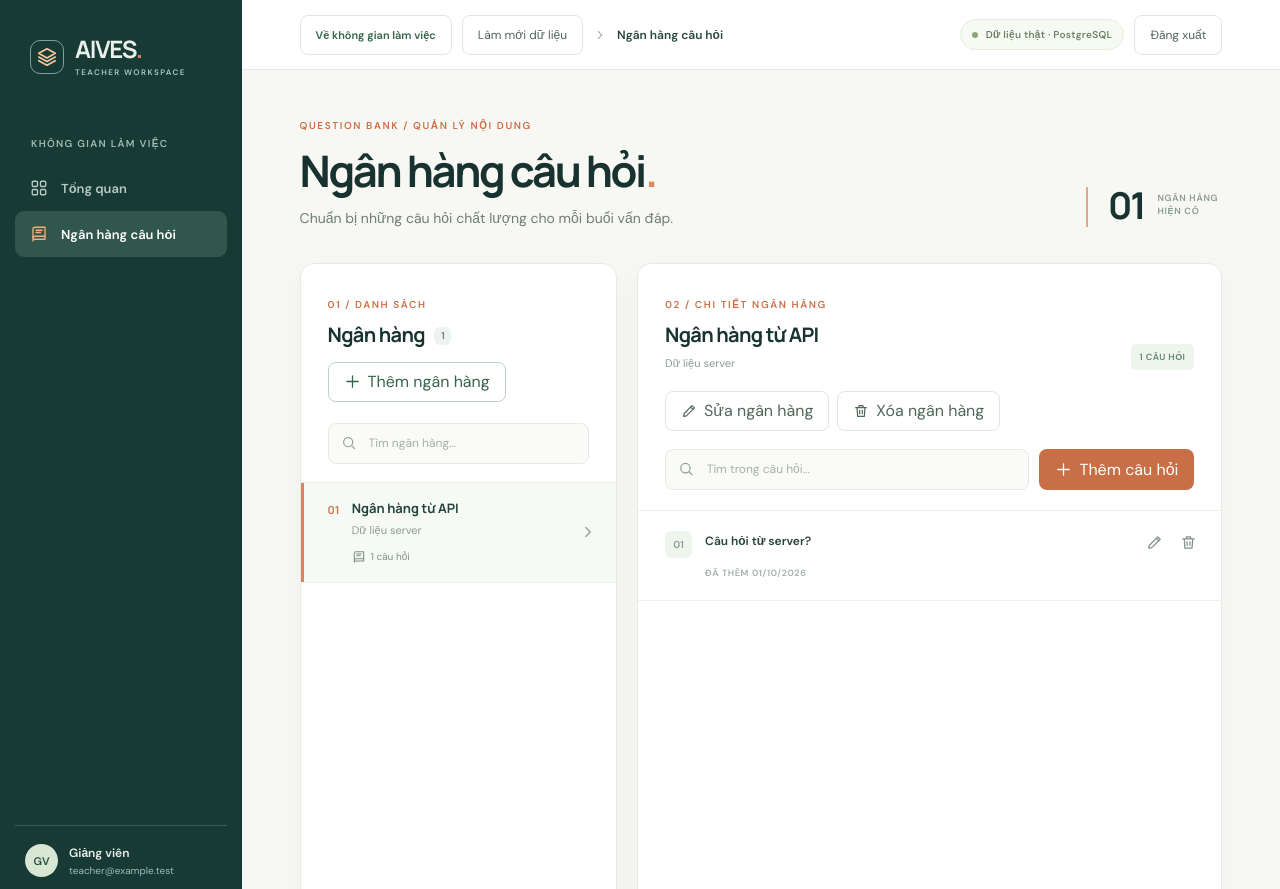
it: Question Bank API-connected route › returns to login if the session expires during a mutation
Expected: the text "Câu hỏi từ server?" is shown, [705,533,811,549]
Click the button named "Xóa câu hỏi 1".
click(1188, 543)  # box [1172,527,1204,559]
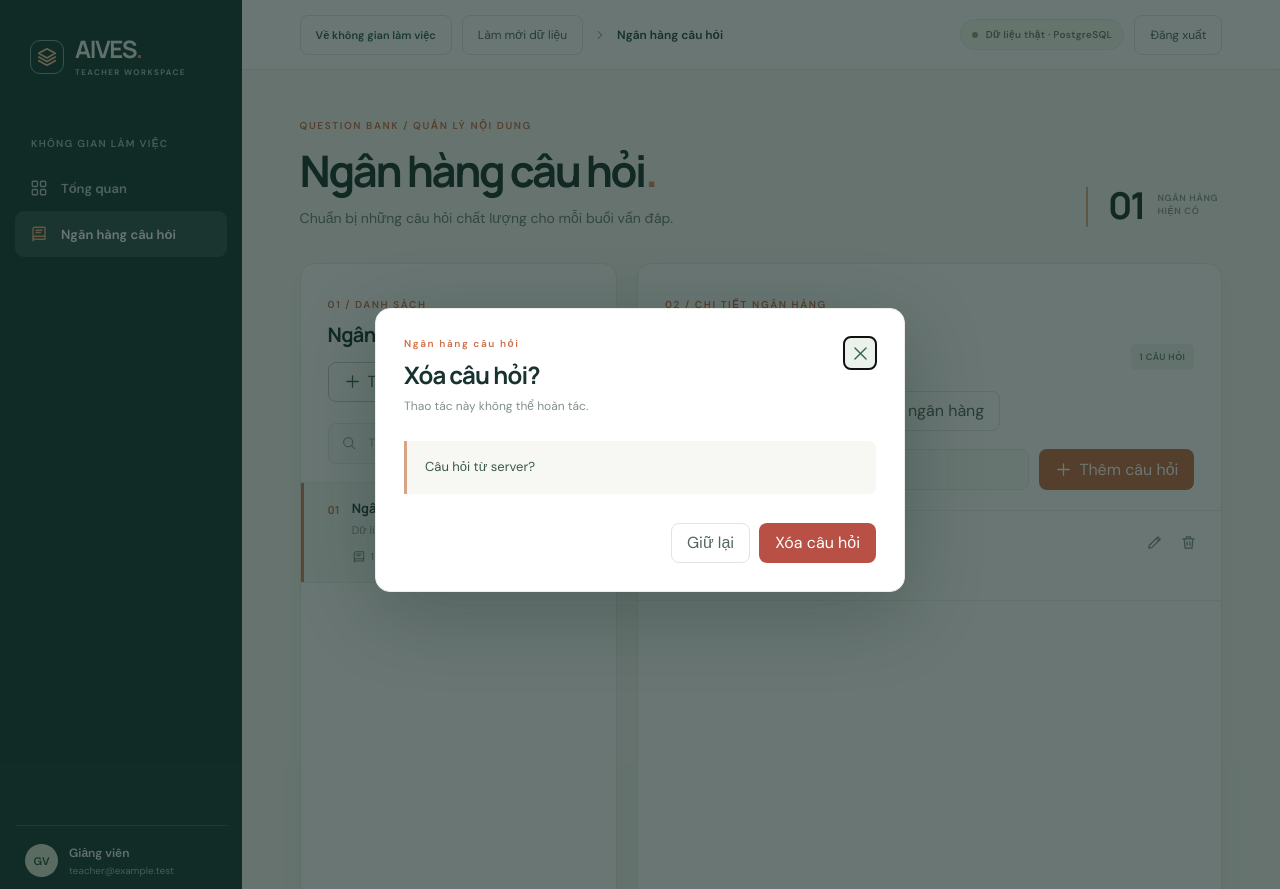
Click the button "Xóa câu hỏi".
click(818, 543)  # box [759,523,876,563]
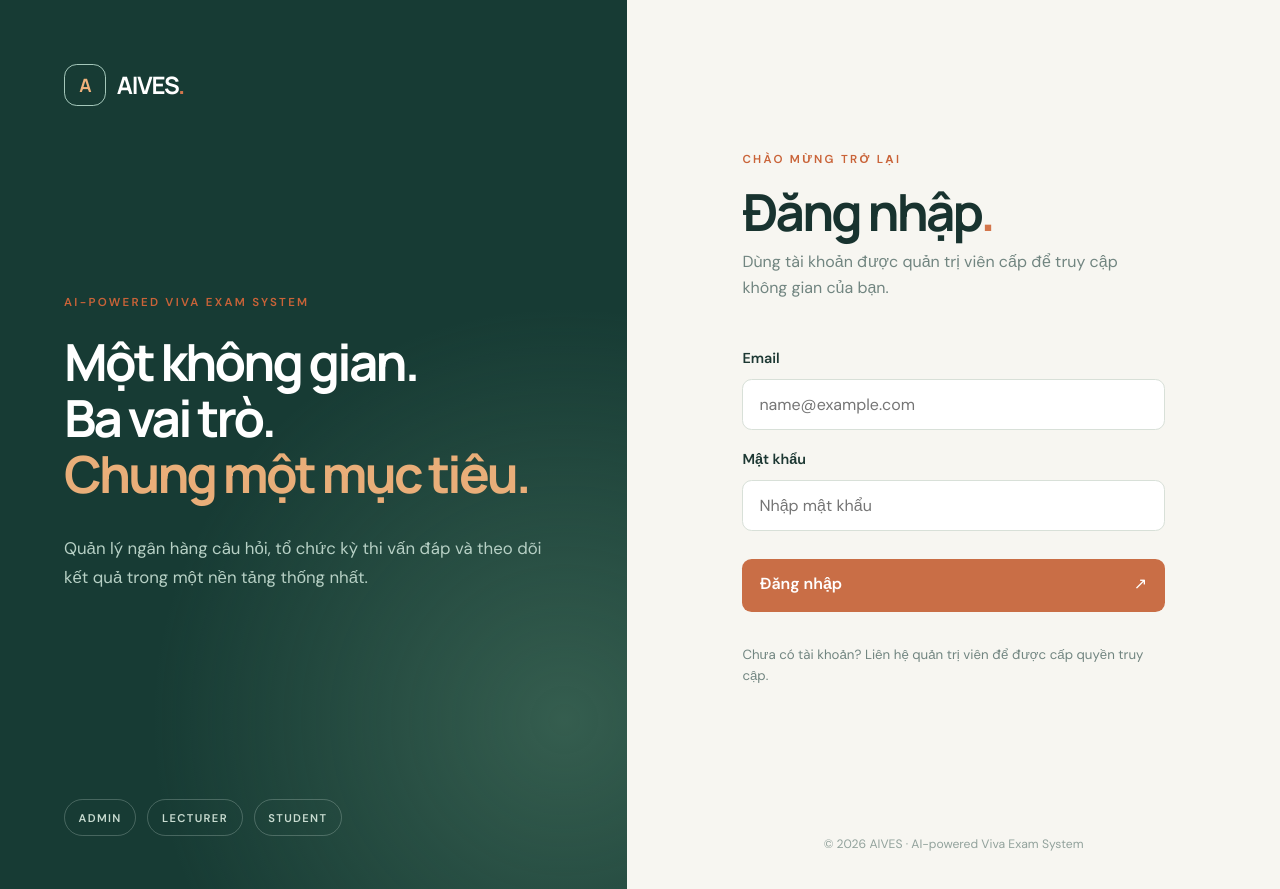
Expected: the heading "Đăng nhập." is shown, [742,176,993,246]
